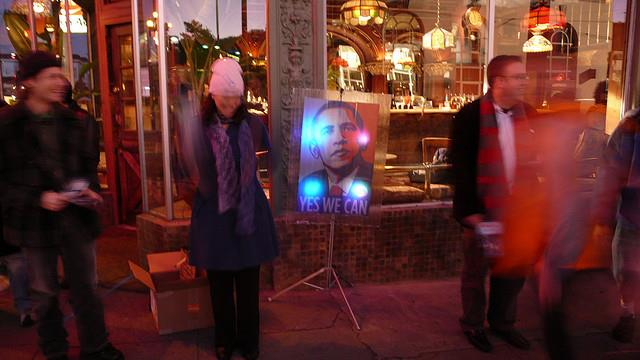Obama: (285, 94, 384, 215)
